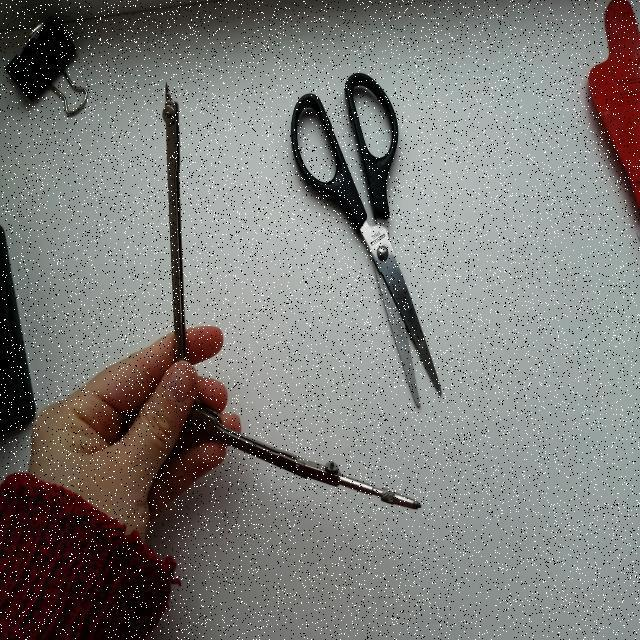scissors: (286, 67, 452, 412)
